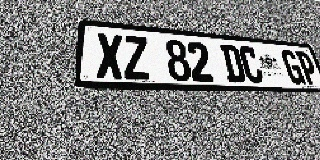2: (186, 41, 214, 82)
8: (165, 39, 192, 81)
C: (238, 46, 265, 83)
D: (220, 44, 247, 83)
G: (280, 50, 306, 85)
P: (295, 51, 320, 85)
X: (96, 33, 124, 79)
Z: (123, 35, 150, 80)
